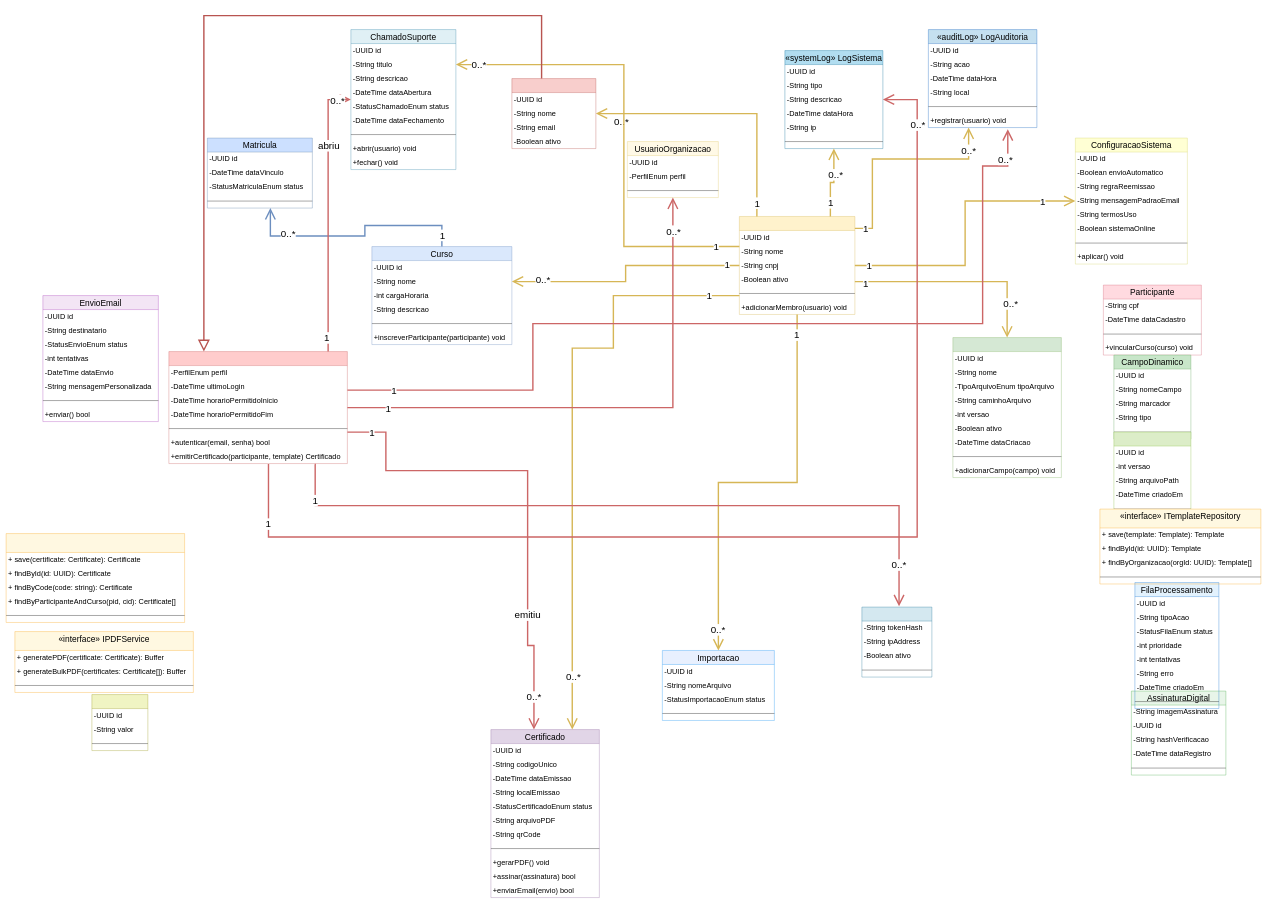
Some shapes in this 1267 by 904 pixel diagram are drawn without their labels. Each missing label, with the box of its shape:
Organizacao: (739, 216, 855, 314)
Sessao: (862, 607, 932, 677)
Template: (953, 337, 1061, 478)
TemplateVersao: (1114, 432, 1191, 516)
Usuario: (169, 351, 347, 464)
ValorCampo: (92, 694, 148, 751)
«abstract» Pessoa: (512, 78, 596, 149)
«interface» ICertificateRepository: (6, 533, 185, 622)
